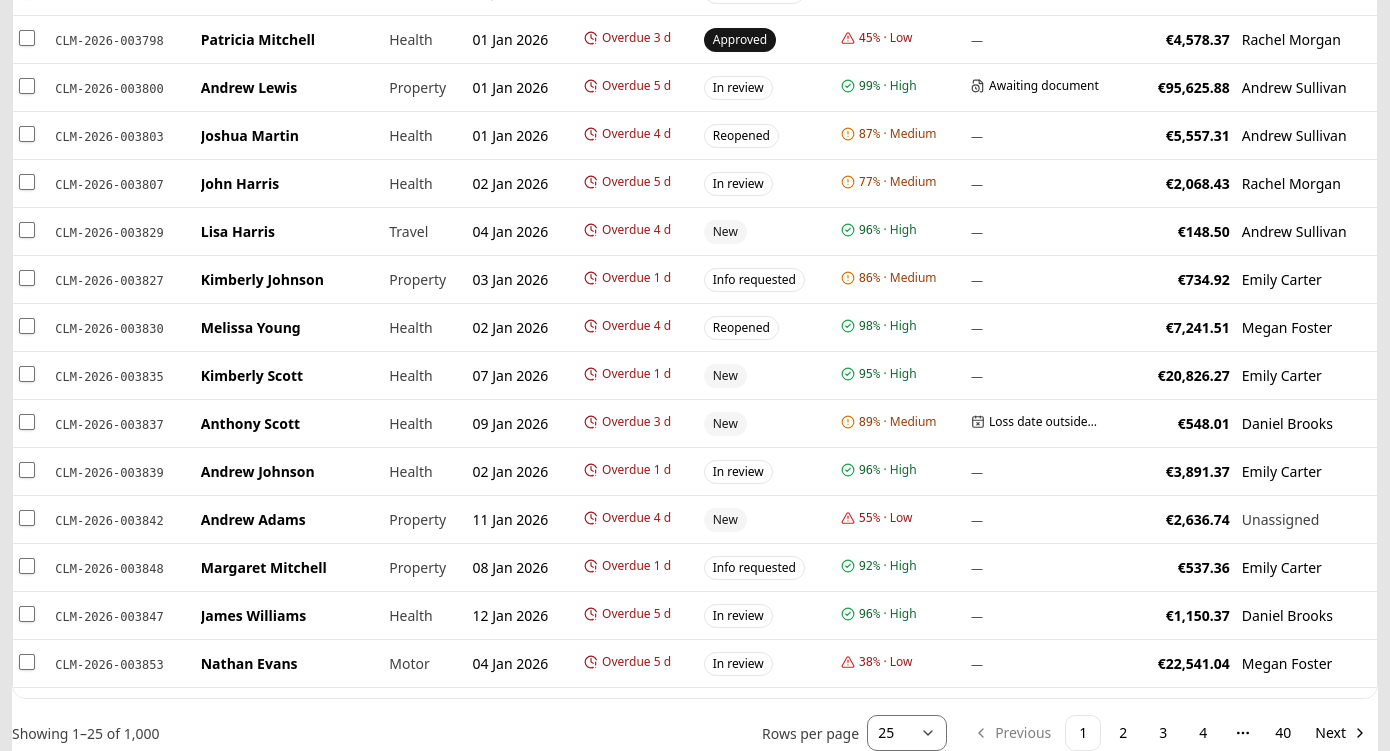
Test: ClaimsTable › pagination › Next shows rows 26–50 and Previous returns to page 1
(page scrolled)
Click the button with aria-label "Next page". click: (1342, 733)
box: [1305,715,1378,750]
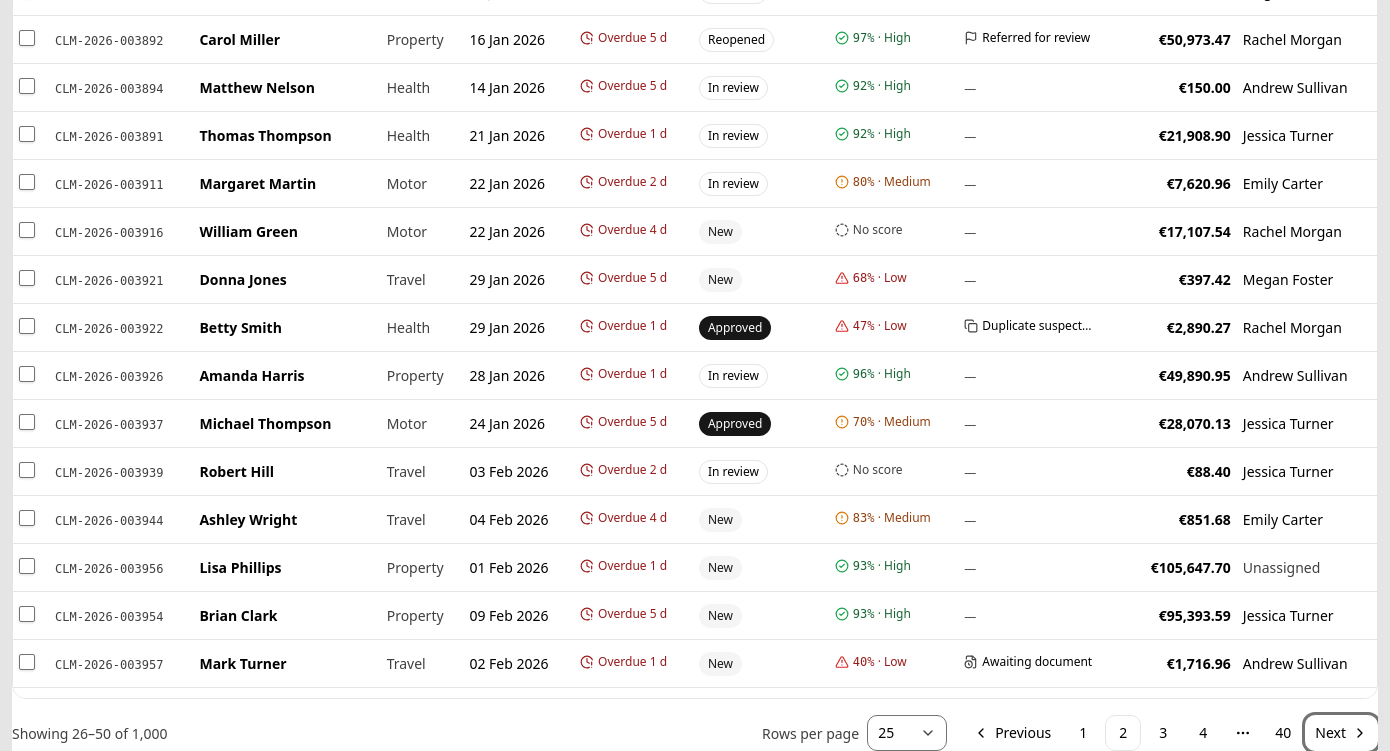
Now the text "Showing 26–50 of 1,000" is shown, box [12,722,168,744]
Click the button with aria-label "Previous page". click: (1012, 733)
box: [963,715,1061,750]
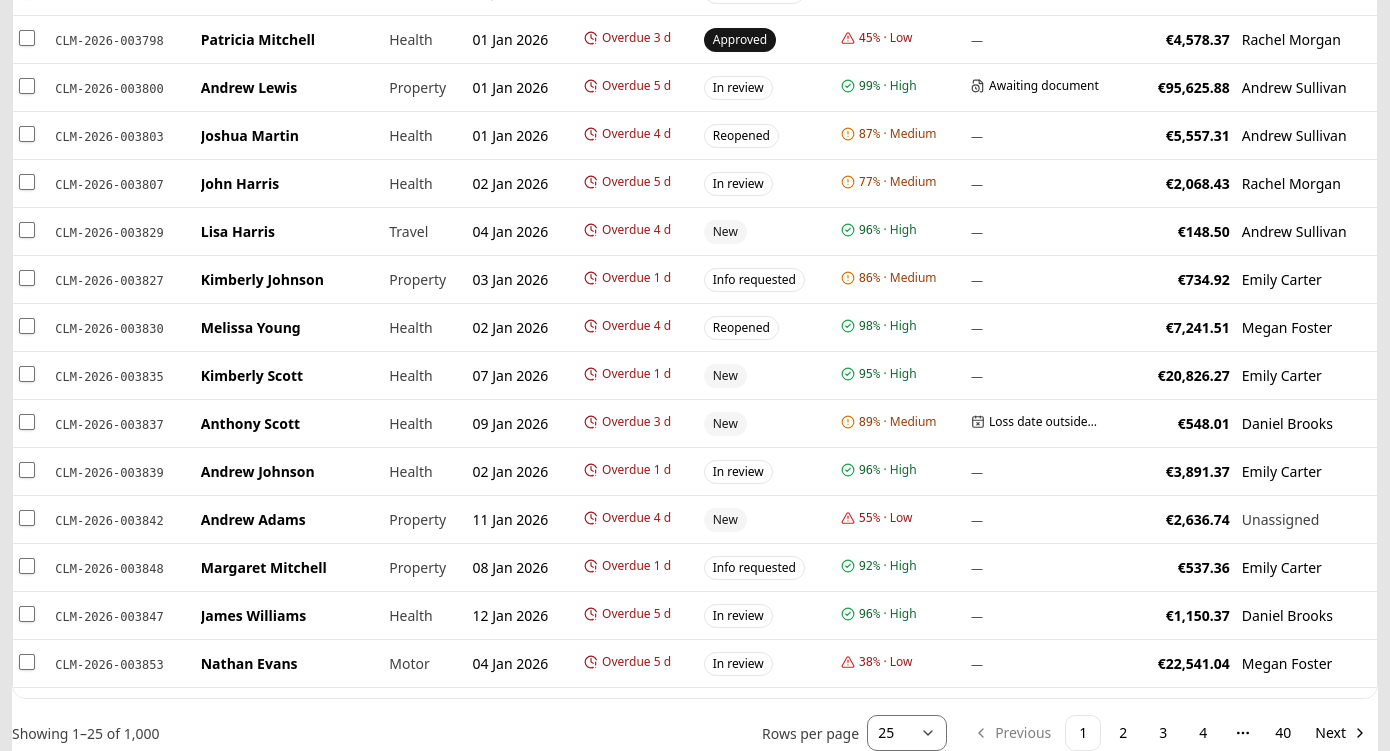
Now the text "Showing 1–25 of 1,000" is shown, box [12,722,160,744]
